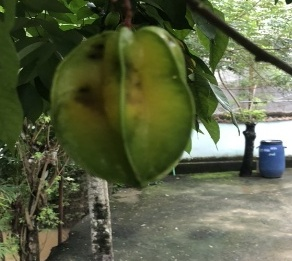Khe: (46, 22, 197, 196)
